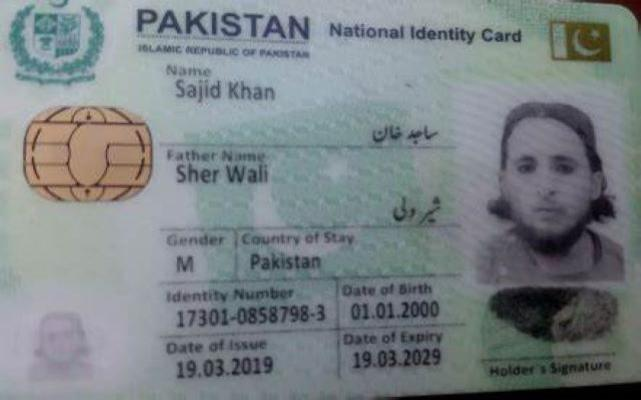fname: (172, 158, 274, 188)
name: (169, 74, 279, 106)
number: (173, 304, 329, 329)
